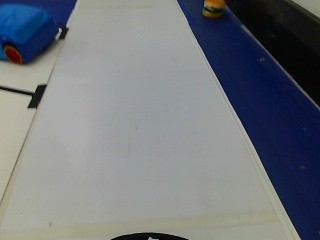burger: (197, 0, 230, 24)
car: (1, 3, 58, 65)
